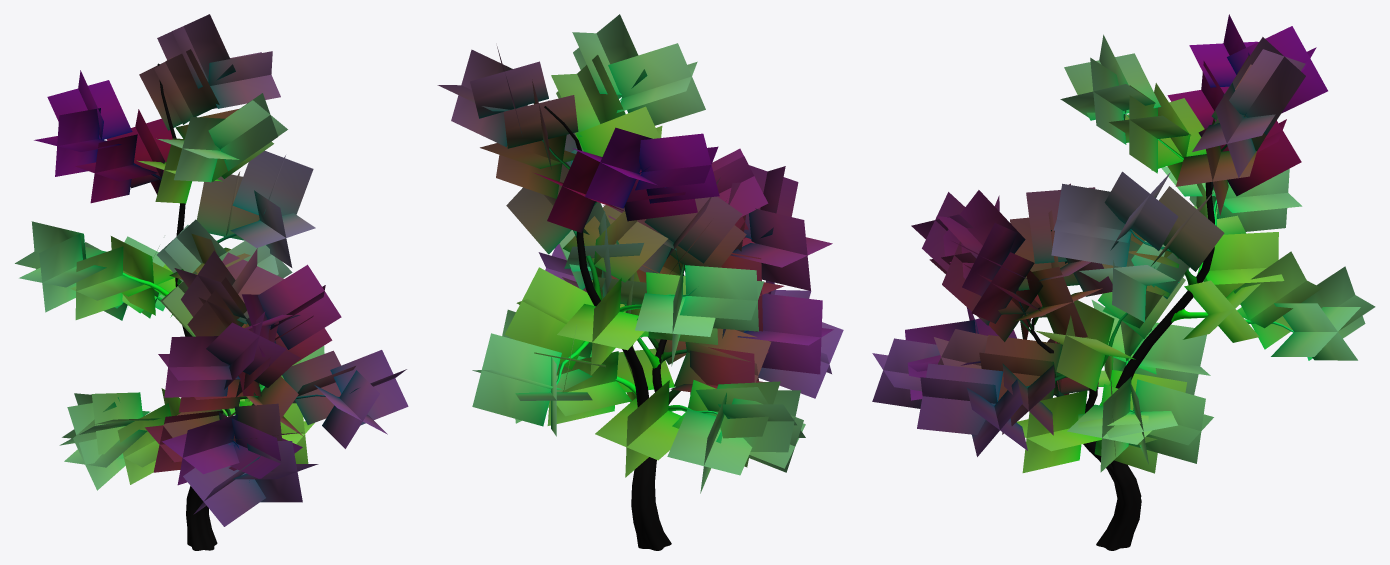
File: URP_P3_Tree_6_LOD_0.fbx
The picture shows the model from 3 angles, left to right: view 1: azimuth 30°, elevation 25°; view 2: azimuth 150°, elevation 25°; view 3: azimuth 270°, elevation 25°; orthographic projection. The views are drawn at different scales.
Parts seen in each view (by area): view 1: Tree_6_LOD_0; view 2: Tree_6_LOD_0; view 3: Tree_6_LOD_0.
Part boxes in pixels (box(x1,y1,x2,y2)): Tree_6_LOD_0: box(15, 14, 408, 550); Tree_6_LOD_0: box(437, 14, 843, 550); Tree_6_LOD_0: box(872, 14, 1375, 550).
Bounding box in the file's own units: 551 × 873 × 745.
